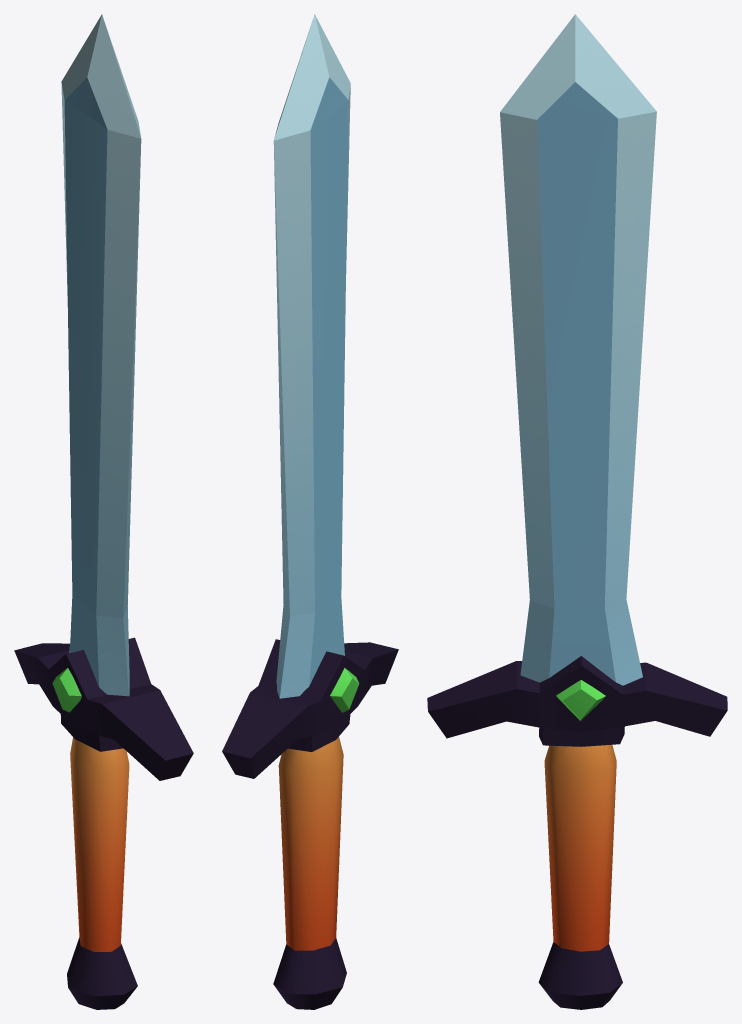
Rendered from Sword_1.FBX.
3 views of the same model, side by side, from view 1: azimuth 30°, elevation 25°; view 2: azimuth 150°, elevation 25°; view 3: azimuth 270°, elevation 25° (orthographic).
Visible parts, largest first — view 1: Sword; view 2: Sword; view 3: Sword.
Boxes of the visible parts, x1,y1,x2,y2 form: Sword: (14,14,193,1009); Sword: (222,14,398,1009); Sword: (427,14,727,1009).
Bounding box in the file's own units: 4.52 × 52.8 × 14.5.
